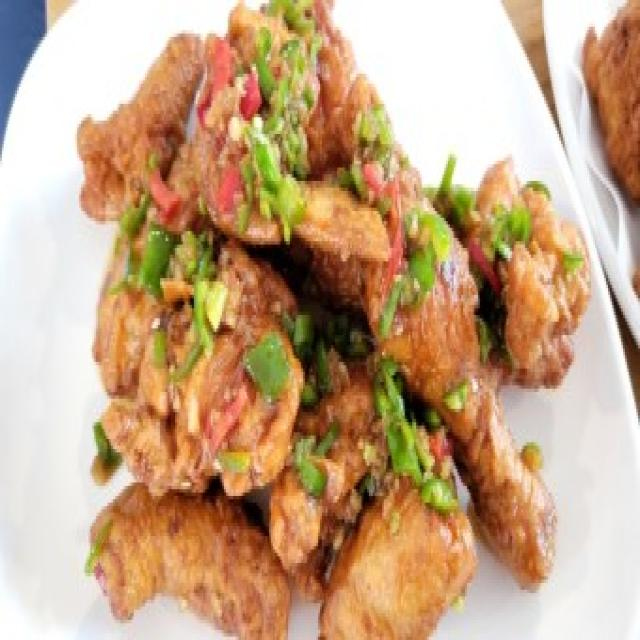Frango: (71, 0, 584, 640)
